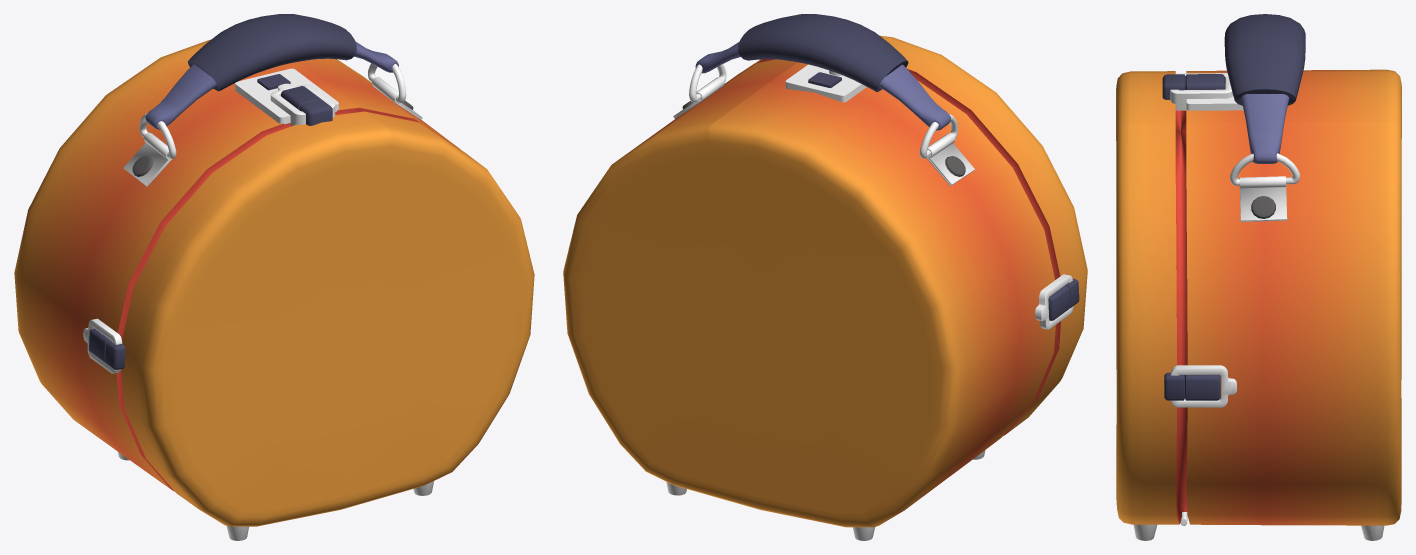
File: Baggage_2_Orange.fbx
3 renders of one model, left to right at view 1: azimuth 30°, elevation 25°; view 2: azimuth 150°, elevation 25°; view 3: azimuth 270°, elevation 25°, orthographic. The views are drawn at different scales.
Visible parts, largest first — view 1: Baggage_2_Orange; view 2: Baggage_2_Orange; view 3: Baggage_2_Orange.
Boxes of the visible parts, x1=… form: Baggage_2_Orange: x1=14, y1=14, x2=534, y2=540; Baggage_2_Orange: x1=563, y1=14, x2=1087, y2=540; Baggage_2_Orange: x1=1116, y1=14, x2=1401, y2=540.
Bounding box in the file's own units: 61.05 × 63.5 × 35.5.
